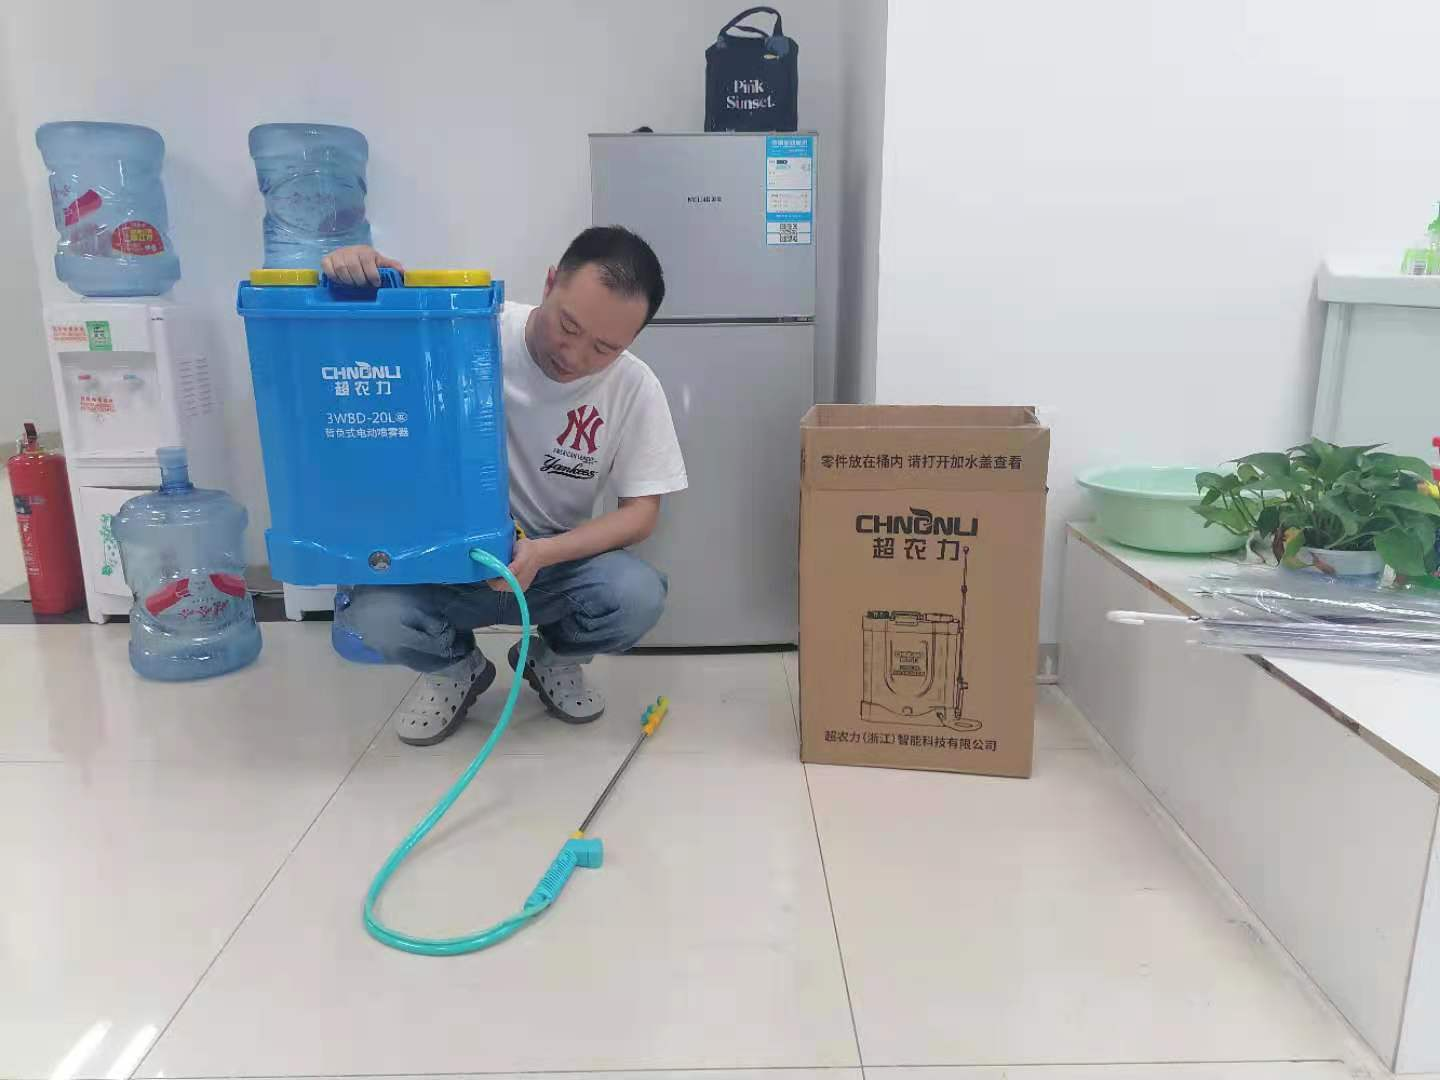berrl: (232, 265, 516, 593)
